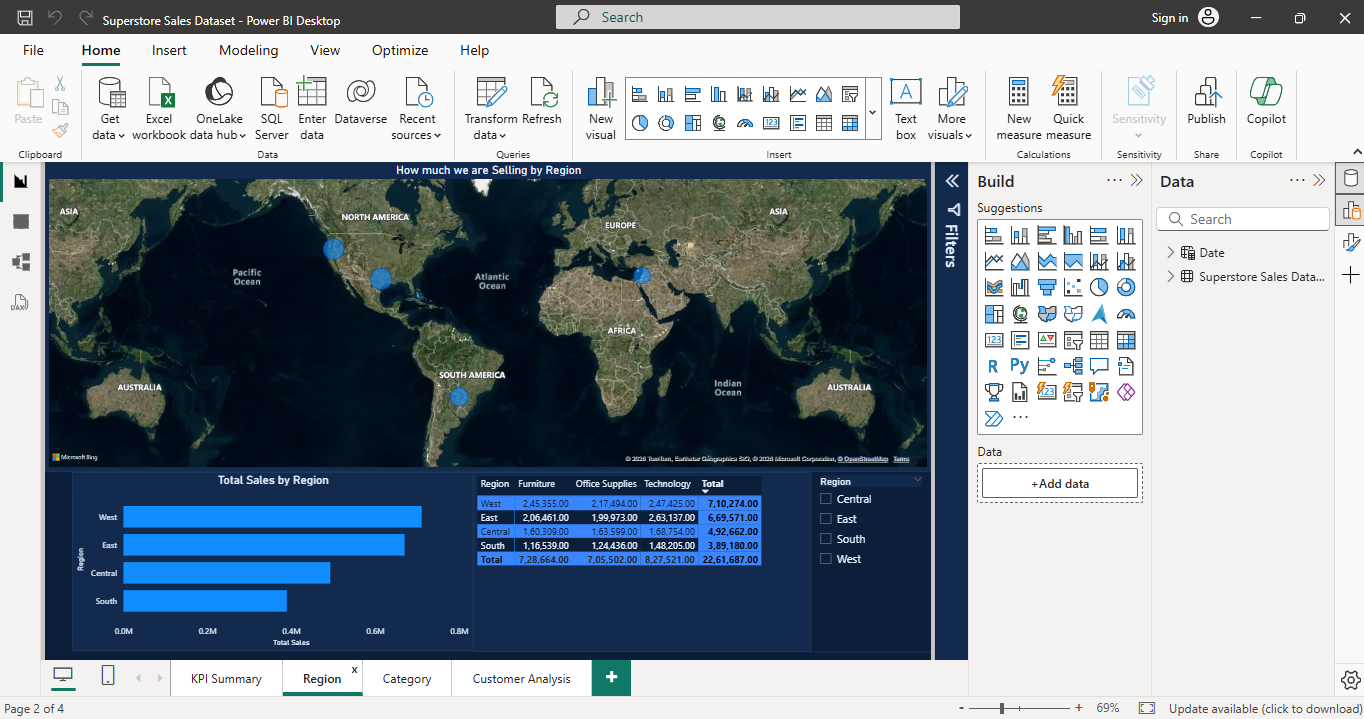

What the dashboard file says about the page in this screenshot:
{"tool":"powerbi","page":{"name":"Region","canvas":[1280,720],"ordinal":1},"visuals":[{"type":"map","fields":{"Category":["Superstore Sales Dataset.State"],"Size":["DateTable.Total Sales"]},"box":[0,0,1278.7,446.1],"z":0},{"type":"pivotTable","fields":{"Rows":["Superstore Sales Dataset.Region"],"Columns":["Superstore Sales Dataset.Category"],"Values":["DateTable.Total Sales"]},"box":[617.9,447.2,487.7,259],"z":1000},{"type":"slicer","fields":{"Values":["Superstore Sales Dataset.Region"]},"box":[1105.6,445.7,173.7,259],"z":2000},{"type":"clusteredBarChart","fields":{"Category":["Superstore Sales Dataset.State"],"Y":["Sum(Superstore Sales Dataset.Sales)"]},"box":[0,445.7,617.9,259],"z":3000}]}

Visuals, with their boxes on the page's 1280x720 design canvas (x1, y1, x2, y2). These are canvas units, not pixel positions in the 1364x719 screenshot, which may show the page scaled, cropped or inside an application window:
map - Superstore Sales Dataset.State x DateTable.Total Sales: left=0, top=0, right=1279, bottom=446
pivotTable - Superstore Sales Dataset.Region x Superstore Sales Dataset.Category: left=618, top=447, right=1106, bottom=706
slicer - Superstore Sales Dataset.Region: left=1106, top=446, right=1279, bottom=705
clusteredBarChart - Superstore Sales Dataset.State x Sum(Superstore Sales Dataset.Sales): left=0, top=446, right=618, bottom=705
